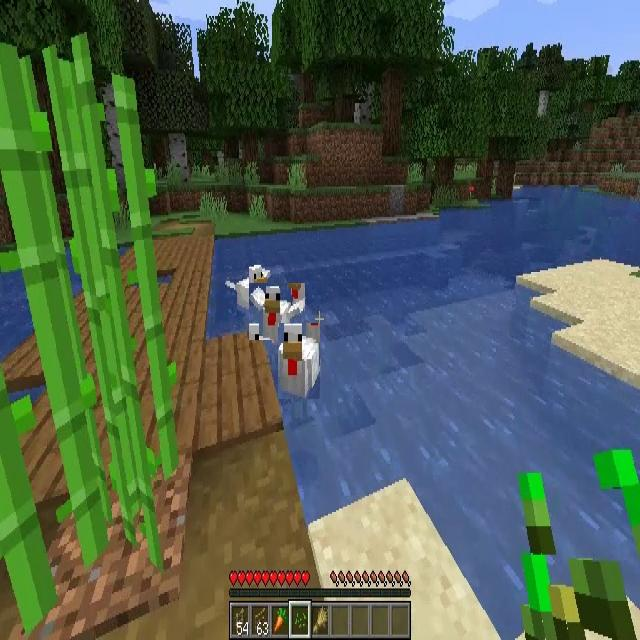duck: (250, 283, 306, 340), (278, 323, 320, 399), (225, 262, 269, 314)
